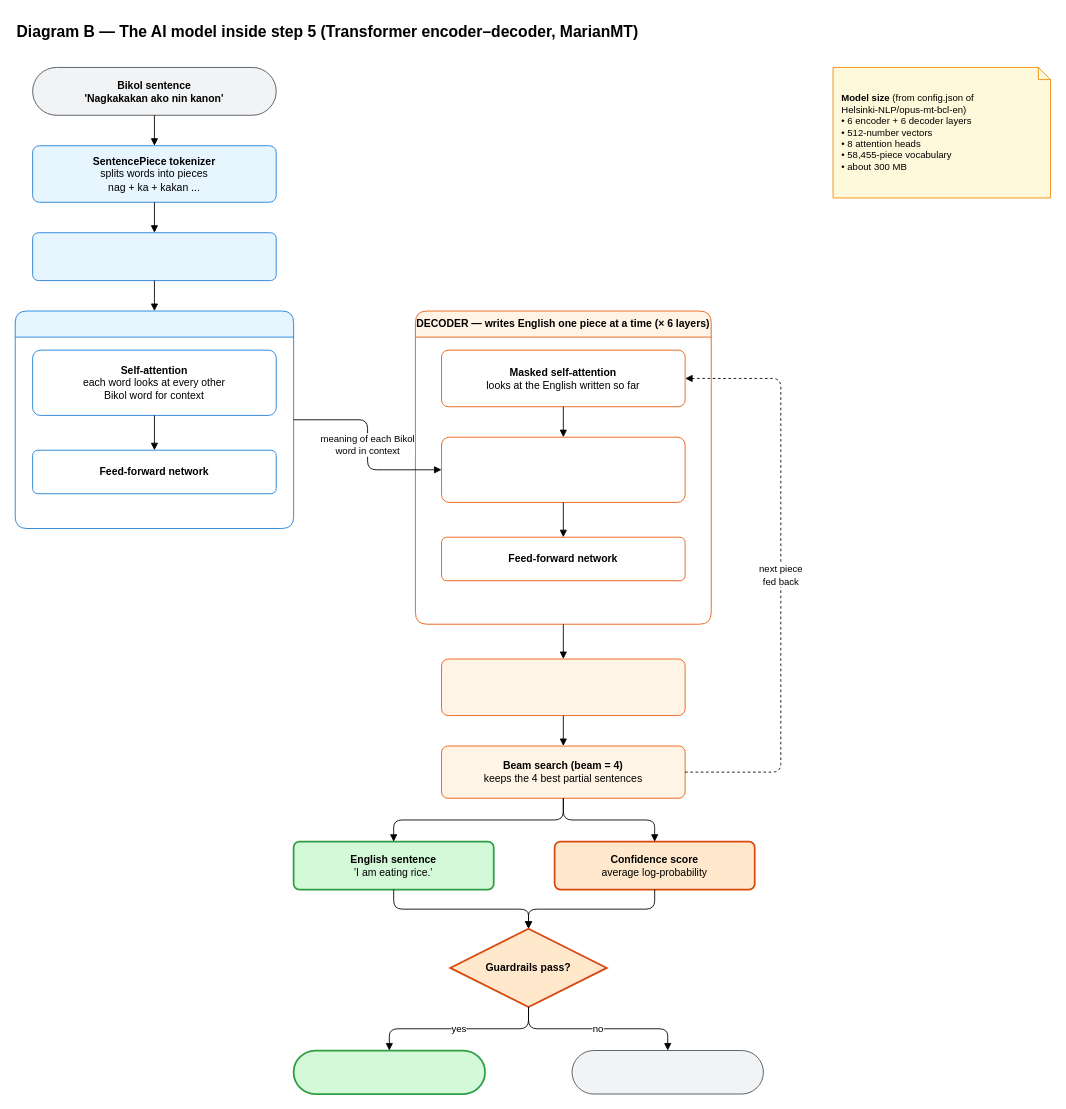
This 1066x1109 diagram has some shape labels left out. The shapes that lost their labels are listed below. From the top down, each one's box as (x1, y1, x2, y2) in pixels, then its label:
(32, 232, 276, 281): Embeddings + positions each piece becomes 512 numbers
(14, 310, 294, 529): ENCODER — reads the Bikol sentence (× 6 layers)
(441, 436, 685, 502): Cross-attention looks back at the Bikol words to decide what comes next
(441, 658, 685, 716): Softmax probability of every possible next piece (58,455-piece vocabulary)
(292, 1049, 485, 1094): Show as AI-translated
(571, 1050, 763, 1094): Fall back to word-by-word
